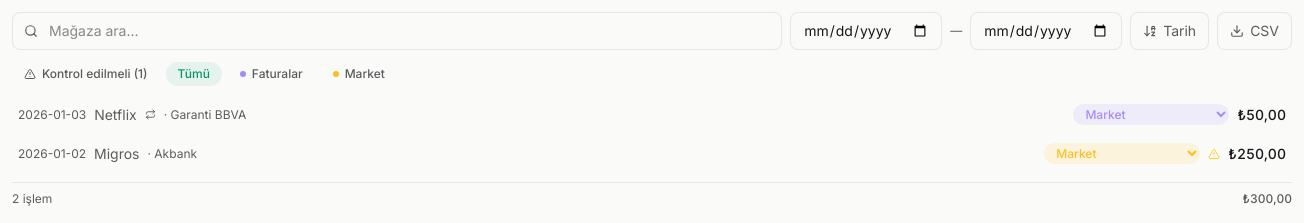
Scenario: AllTransactionsView › filters low-confidence AI category assignments into a review queue
expect the text "Migros" is shown: met, box x1=94 y1=144 x2=140 y2=162
Click the button "Kontrol edilmeli (1)" at (86, 74), box x1=12 y1=62 x2=160 y2=86
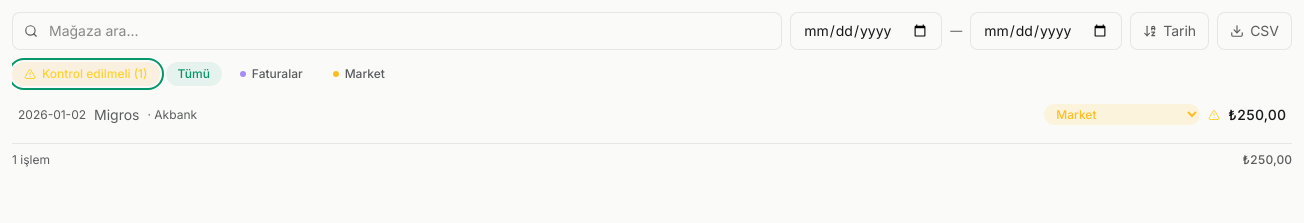
expect the text "Migros" is shown: met, box x1=94 y1=106 x2=140 y2=122
expect the text "Netflix" is gone: met
